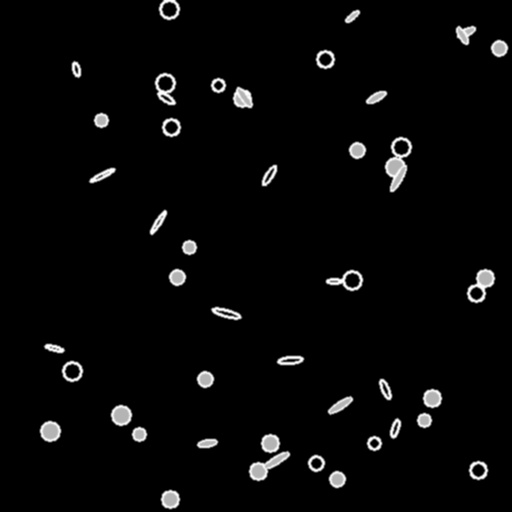pseudomonas: (388, 164, 408, 192), (262, 450, 290, 470), (327, 395, 353, 415), (149, 210, 167, 234), (89, 167, 115, 183), (235, 86, 253, 108), (260, 164, 278, 186), (212, 306, 240, 320), (454, 25, 470, 45), (156, 90, 176, 106), (378, 378, 392, 400), (456, 25, 476, 39), (366, 90, 386, 104), (389, 418, 401, 438), (344, 9, 360, 23), (44, 343, 64, 353), (278, 356, 302, 364), (198, 438, 216, 448), (71, 61, 81, 77), (326, 278, 342, 284)
synechocystis: (63, 362, 81, 380), (386, 158, 404, 176), (343, 271, 361, 289), (156, 74, 174, 92), (160, 0, 178, 18), (112, 406, 130, 424), (392, 138, 410, 156), (41, 422, 59, 440), (477, 270, 493, 286), (234, 90, 250, 106), (262, 435, 278, 451), (470, 462, 486, 478), (468, 285, 484, 301), (163, 119, 179, 135), (317, 51, 333, 67), (424, 390, 440, 406), (162, 491, 178, 507), (250, 463, 266, 479), (492, 41, 506, 55), (330, 472, 344, 486), (198, 372, 212, 386), (309, 456, 323, 470), (170, 270, 184, 284), (350, 143, 364, 157), (183, 241, 195, 253), (418, 414, 430, 426), (368, 437, 380, 449), (212, 79, 224, 91), (133, 428, 145, 440), (95, 114, 107, 126)
